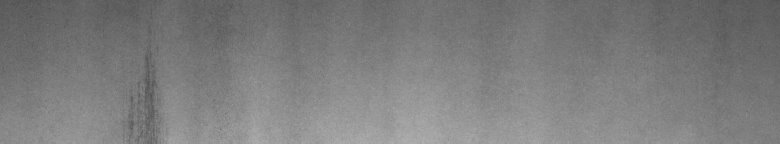ka: (126, 52, 162, 136)
